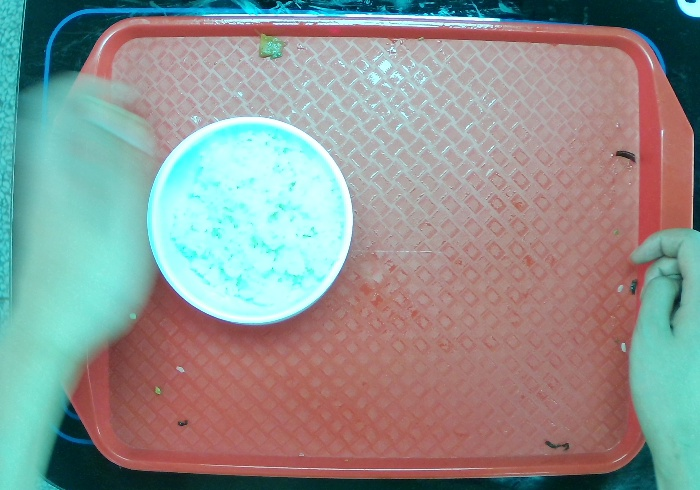YKMZ-Fan_Wan: (146, 112, 354, 328)
